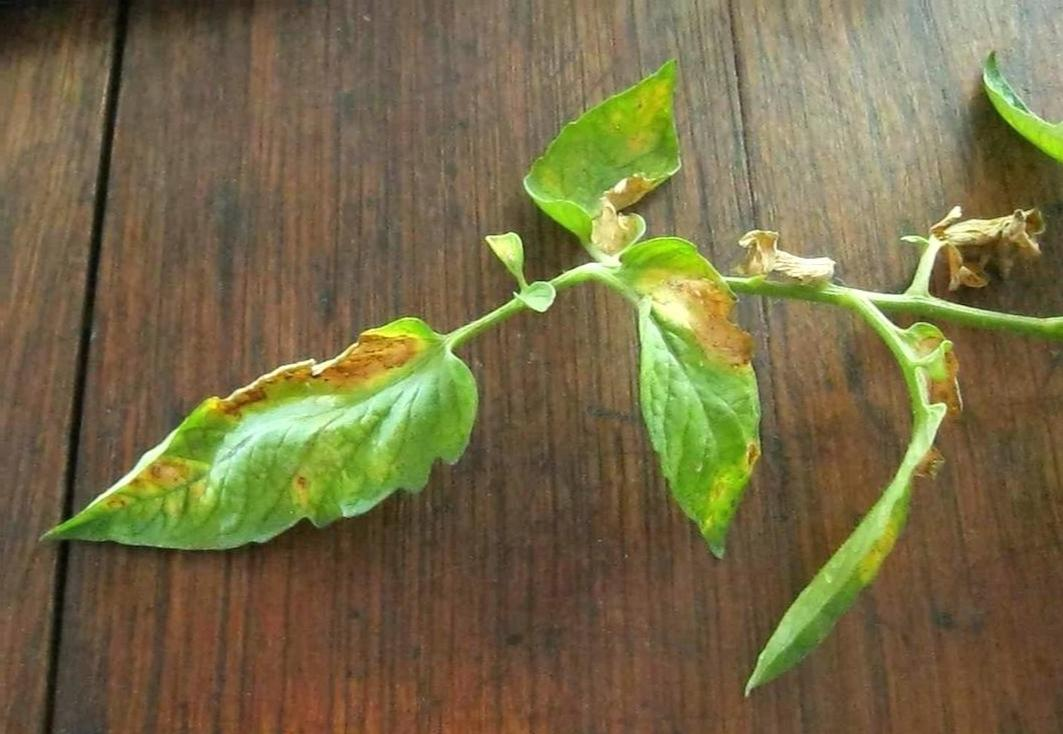Tomato Early blight leaf: (43, 317, 479, 571), (609, 221, 765, 570)
